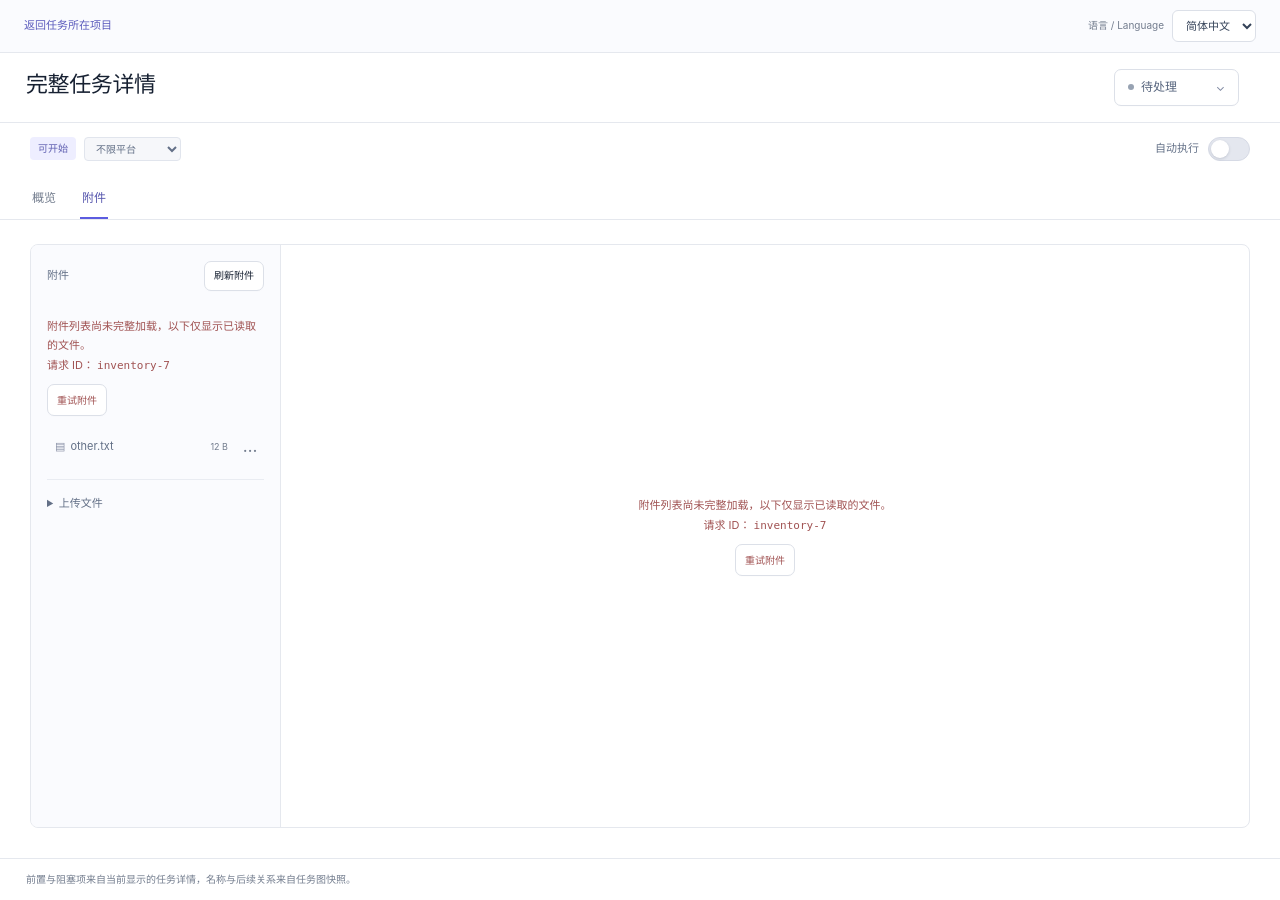
full-detail attachment surface › distinguishes missing files from a partial inventory failure and retries the complete inventory
Expected: the 2nd message "附件列表尚未完整加载，以下仅显示已读取的文件。 请求 ID： inventory-7 重试附件" is shown, [624,481,906,591]
Expected: the text "找不到此附件，文件可能已被删除。" is not shown
Click the 2nd button "重试附件". click: point(765, 560)
box: [735,544,795,576]
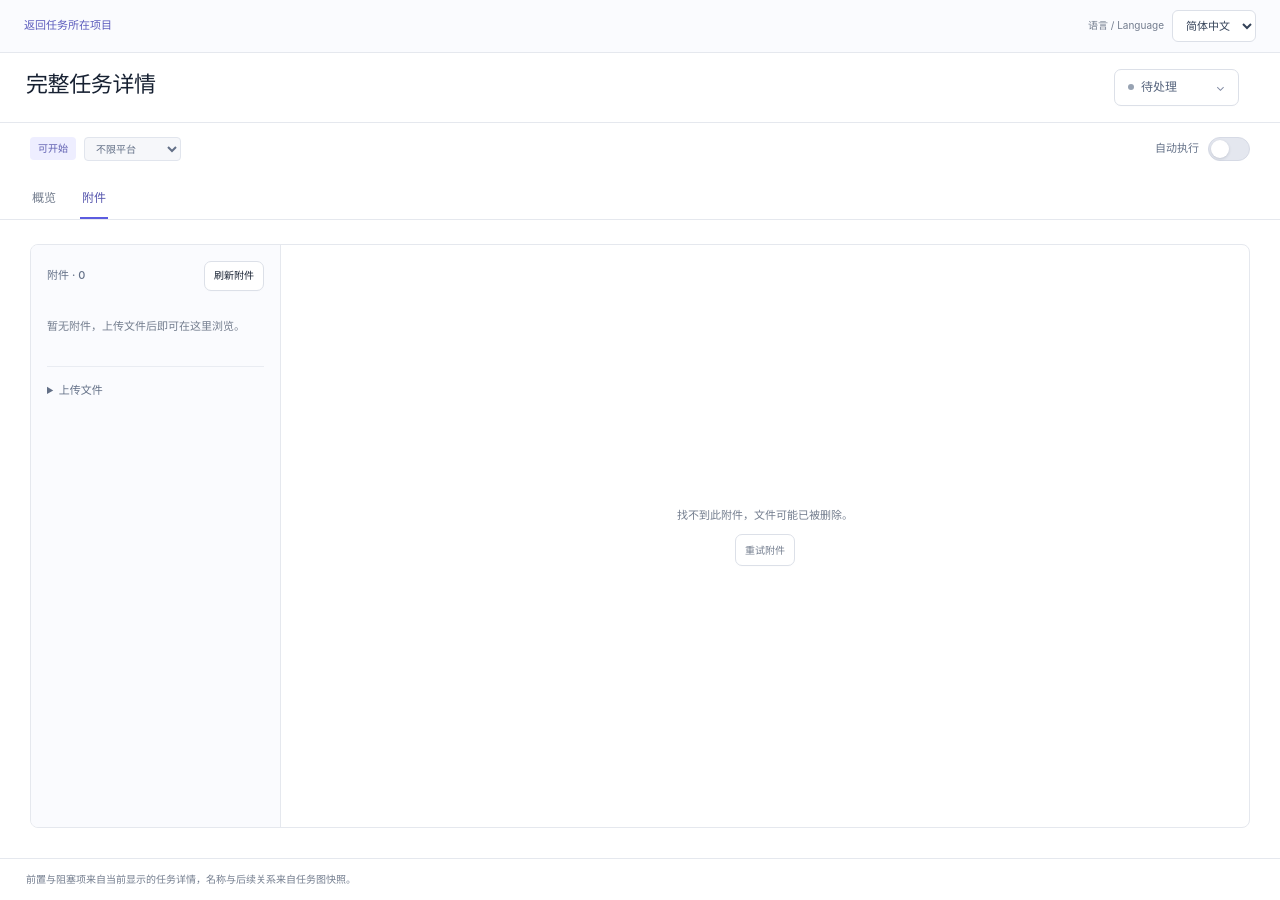
Result: the message shows "找不到此附件" at [677,508,853,522]
Click the button "重试附件". click: point(765, 550)
box: [735,534,795,566]
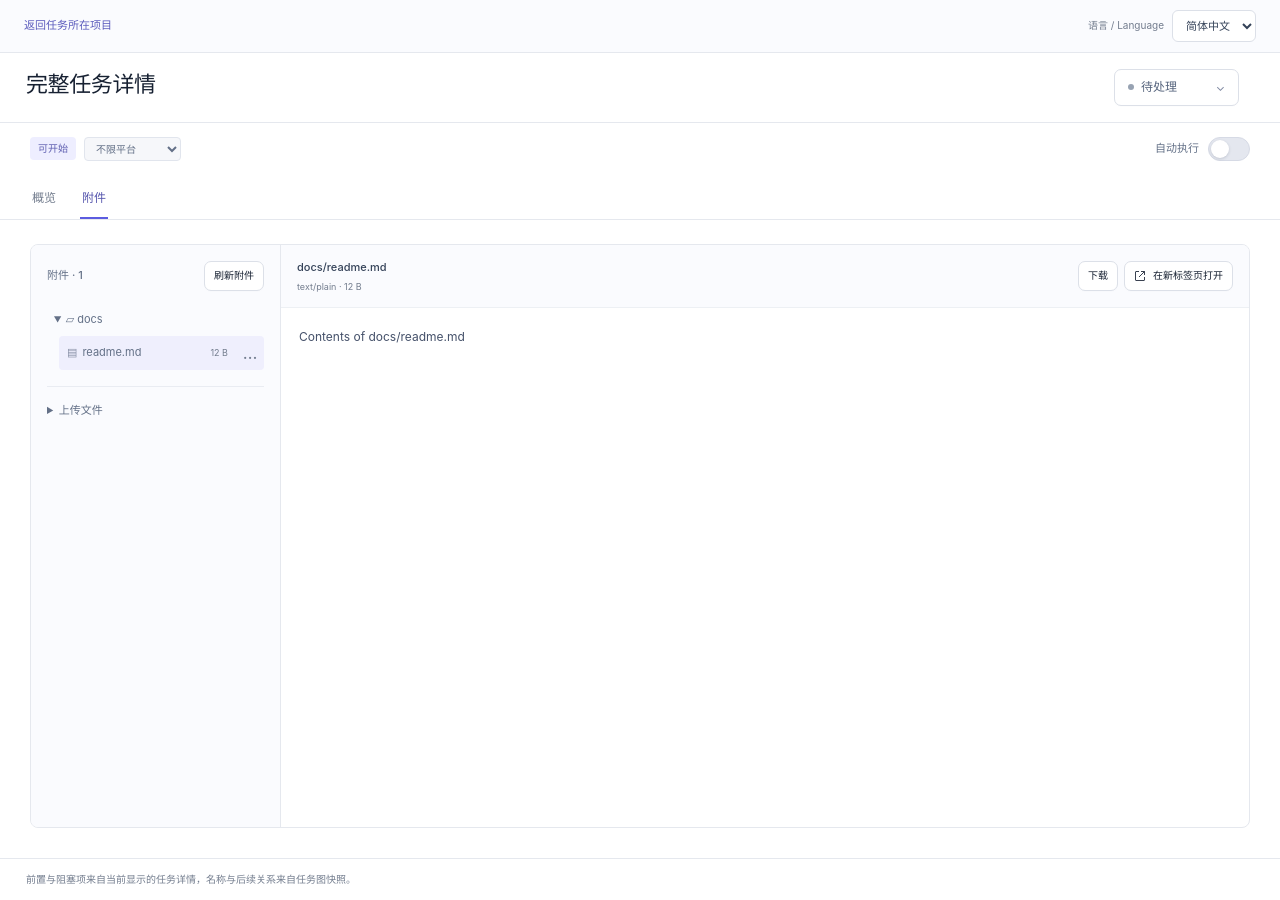
Result: the text "Contents of docs/readme.md" is shown at [299,329,465,344]
